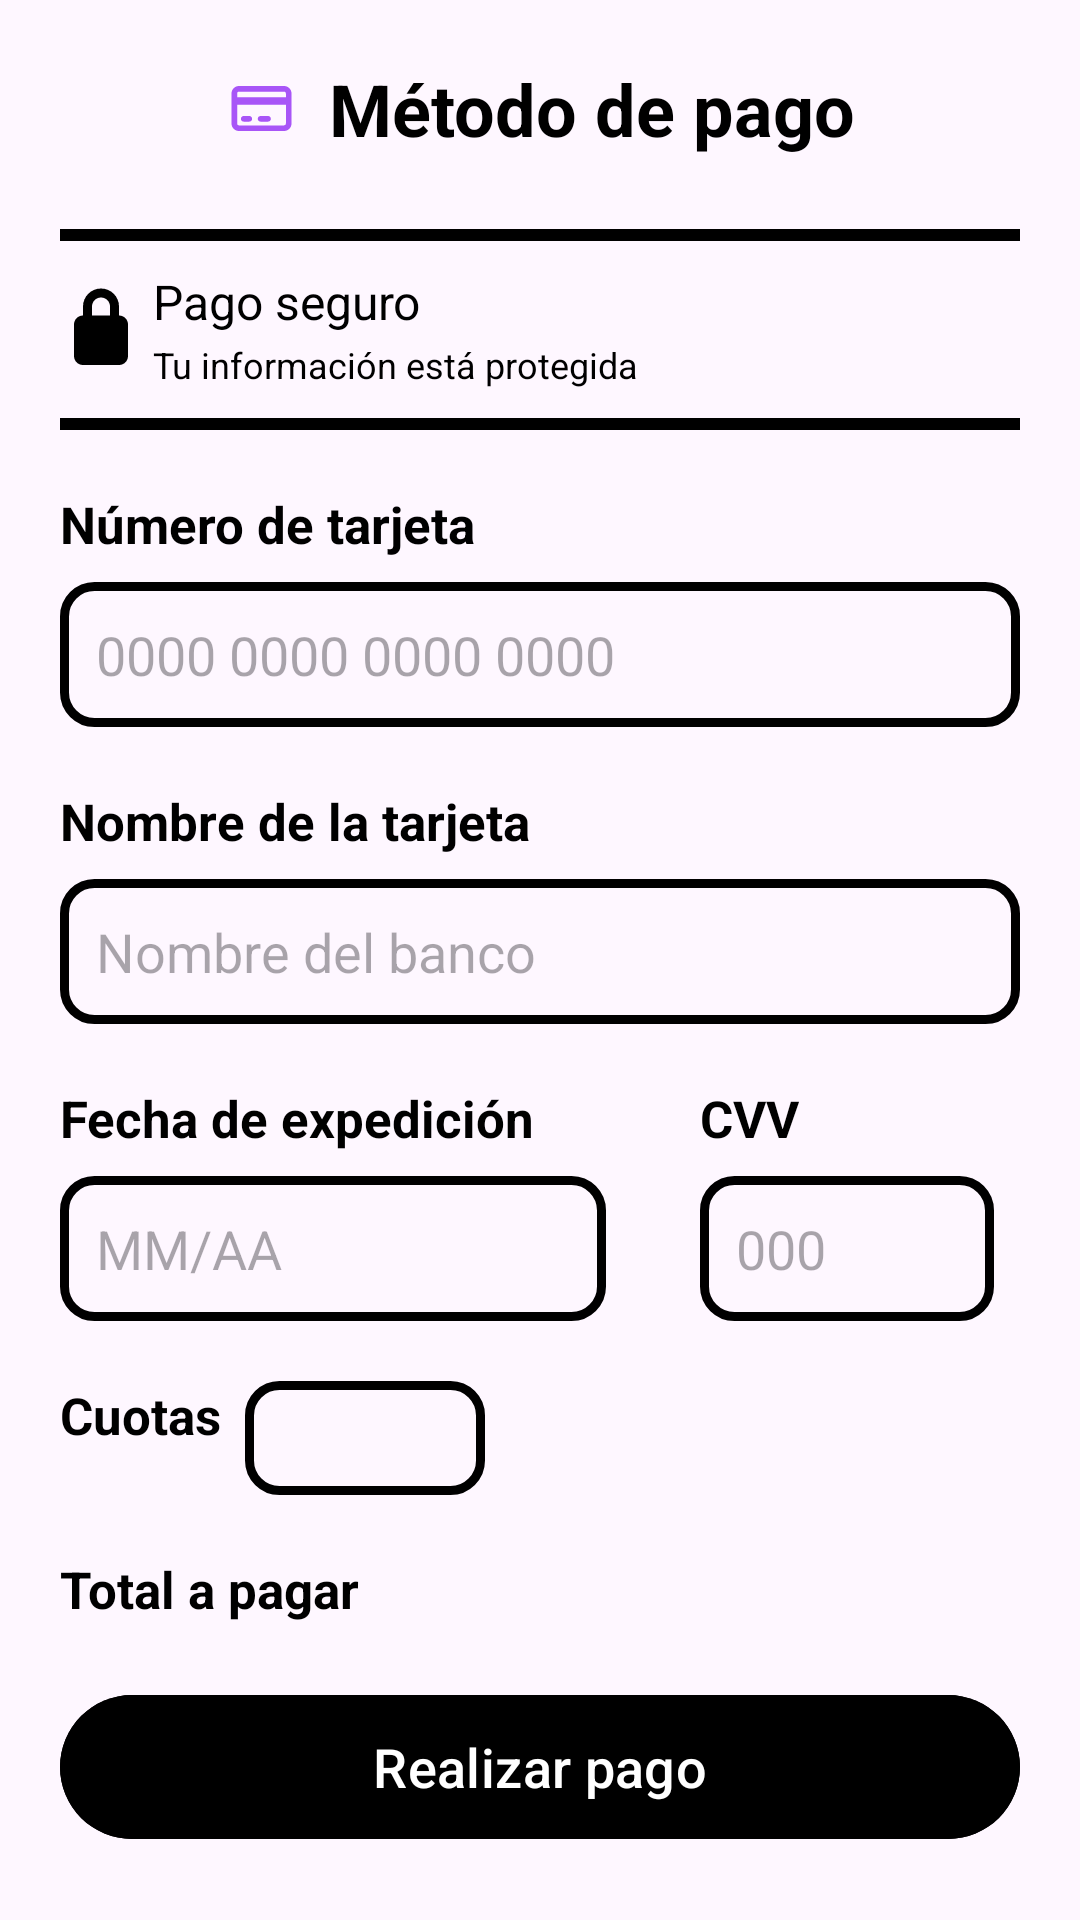

Icon click points for this 1080px x 1920px phone screenshot, format point (x, y):
credit card full: point (261, 108)
